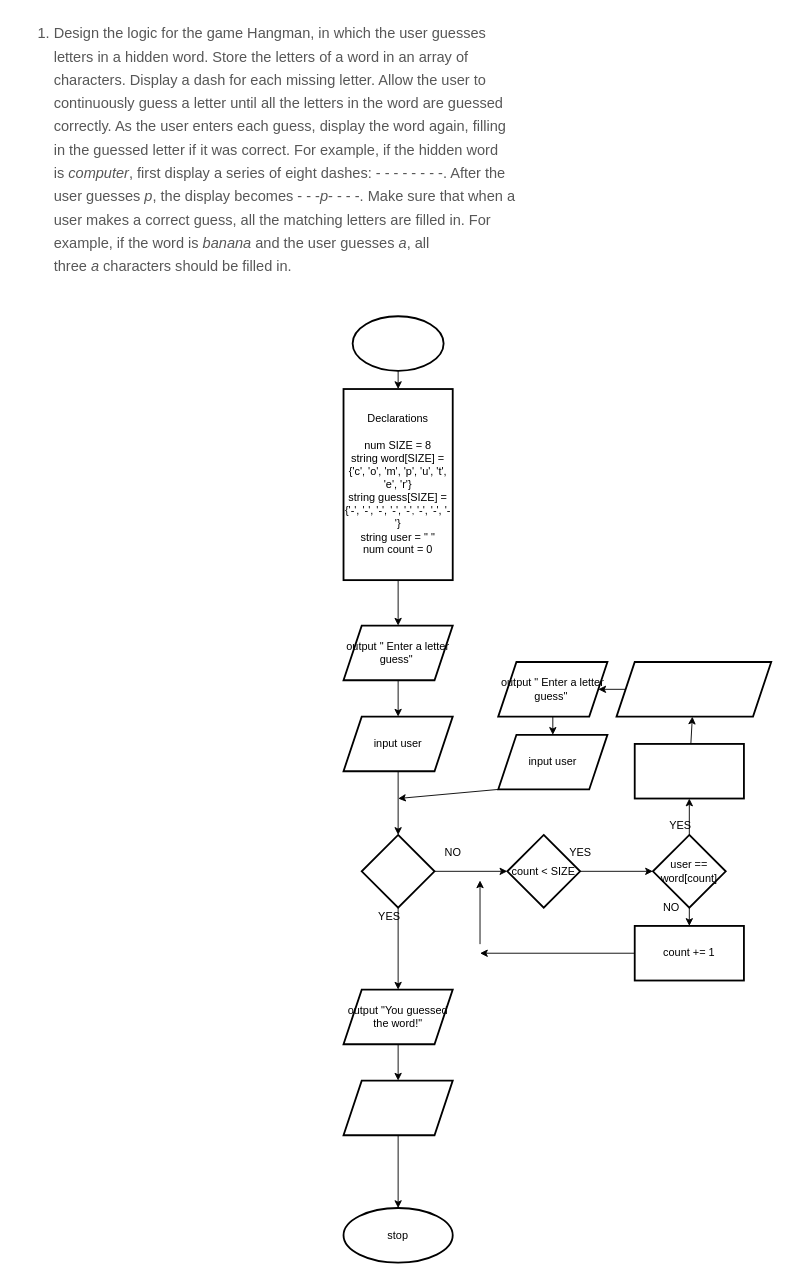
The diagram is 787 pixels wide and 1279 high, and some of its shapes have lost their labels. The shapes that lost their labels are listed below. From the top down, each one's centre as x and y in pixels, then its label:
pixel 397 343: start
pixel 693 689: output "you guessed correctly, here's what you have so far ", guess
pixel 688 771: guess[count] == user
pixel 397 871: word == guess
pixel 397 1107: output "End of program"
